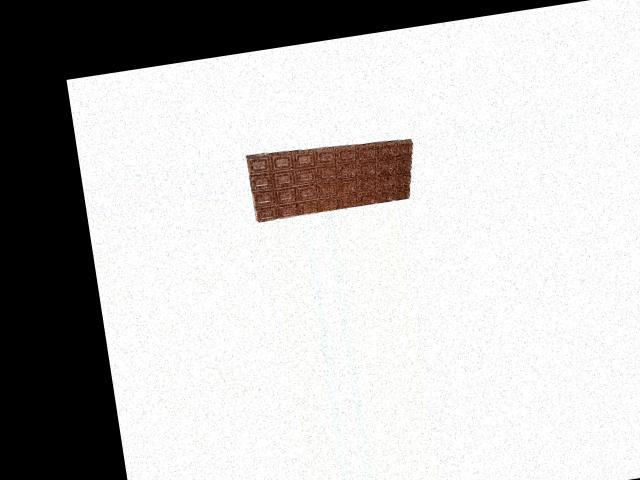chocolate: (244, 132, 423, 223)
